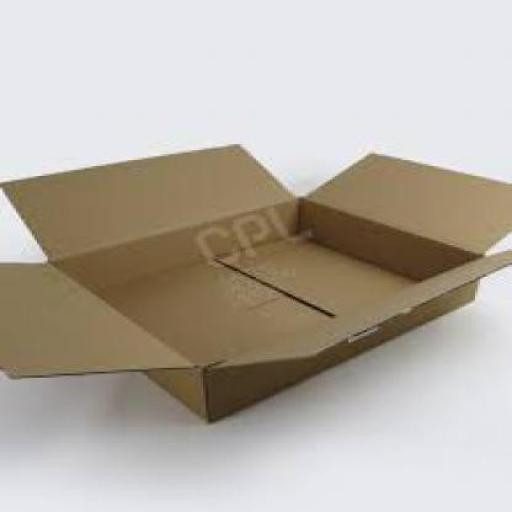cardboard: (0, 142, 510, 419)
